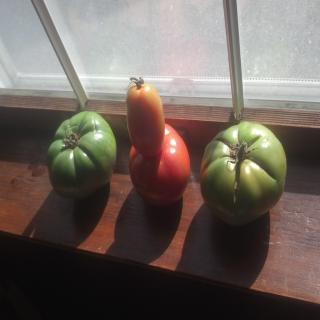tomato: (200, 118, 286, 226), (46, 110, 117, 200), (128, 120, 190, 210), (122, 74, 166, 158)
